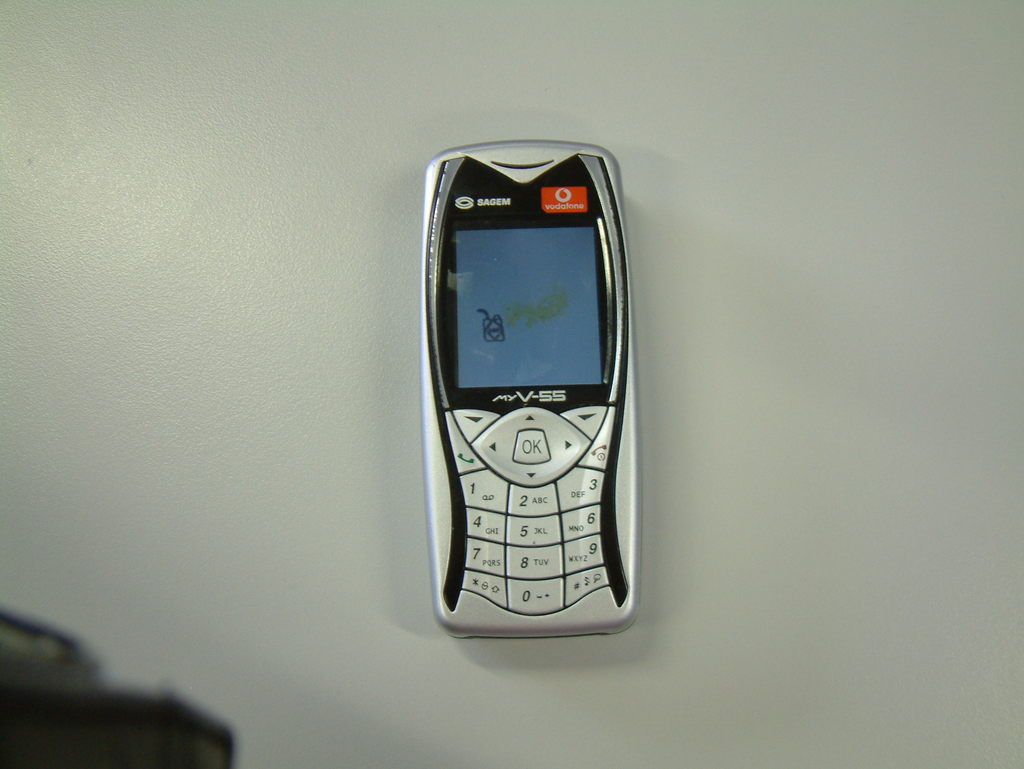mobile phone: (425, 135, 641, 634)
